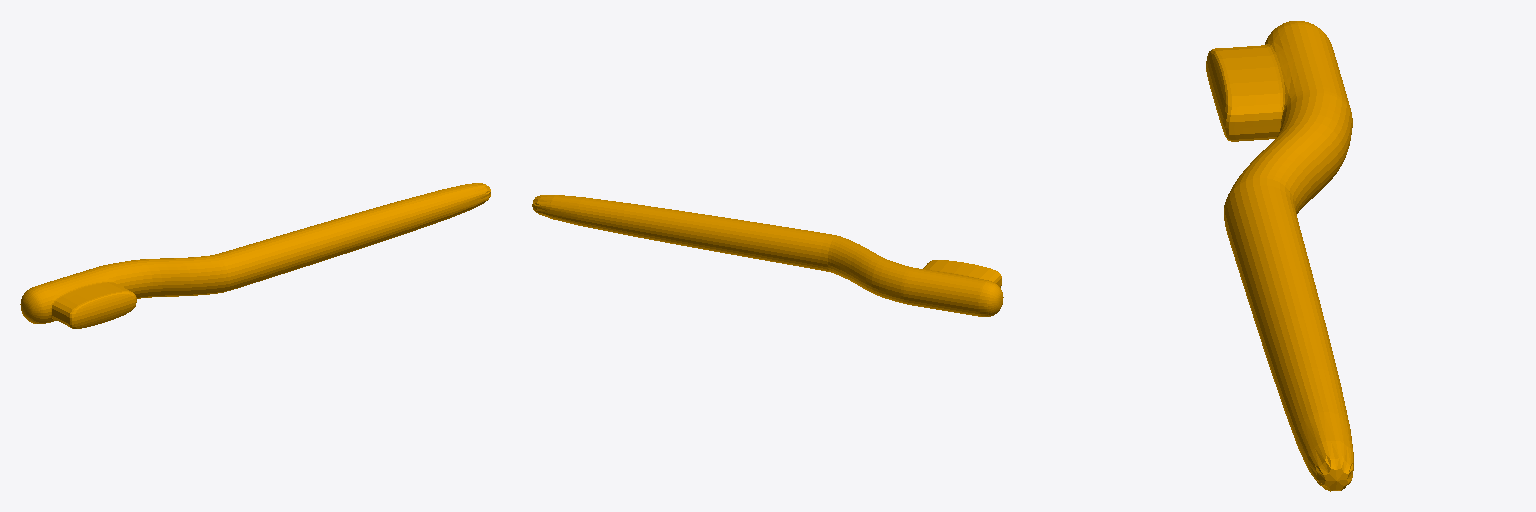
The robot description file, URDF, robot "object":
<?xml version="1.0"?>
<robot name="object">
  <link name="object">
    <visual>
      <origin xyz="0.0 0.0 0.0"/>
      <geometry>
        <mesh filename="toothbrush.stl" scale="1.00 1.00 1.00"/>
      </geometry>
    </visual>
    <collision>
      <origin xyz="0.0 0.0 0.0"/>
      <geometry>
        <mesh filename="toothbrush.stl" scale="1.00 1.00 1.00"/>
      </geometry>
    </collision>
  </link>
</robot>
    
                    

--- Render facts (derived) ---
The picture shows the robot from 3 angles, left to right: view 1: azimuth 30°, elevation 25°; view 2: azimuth 150°, elevation 25°; view 3: azimuth 270°, elevation 25°; orthographic projection.
Robot: object — 1 links, 0 joints (none); root link object; default pose: every joint at zero.
Visible links, largest first — view 1: object; view 2: object; view 3: object.
Boxes of the visible links, x1=… form: object: x1=20, y1=183, x2=490, y2=328; object: x1=532, y1=195, x2=1003, y2=316; object: x1=1206, y1=21, x2=1353, y2=491.
Size in the robot's own frame: 0.1649 by 0.0241 by 0.0125 metres.
Meshes: 1 distinct files referenced, 1 mesh visuals loaded (1 binary STL).
